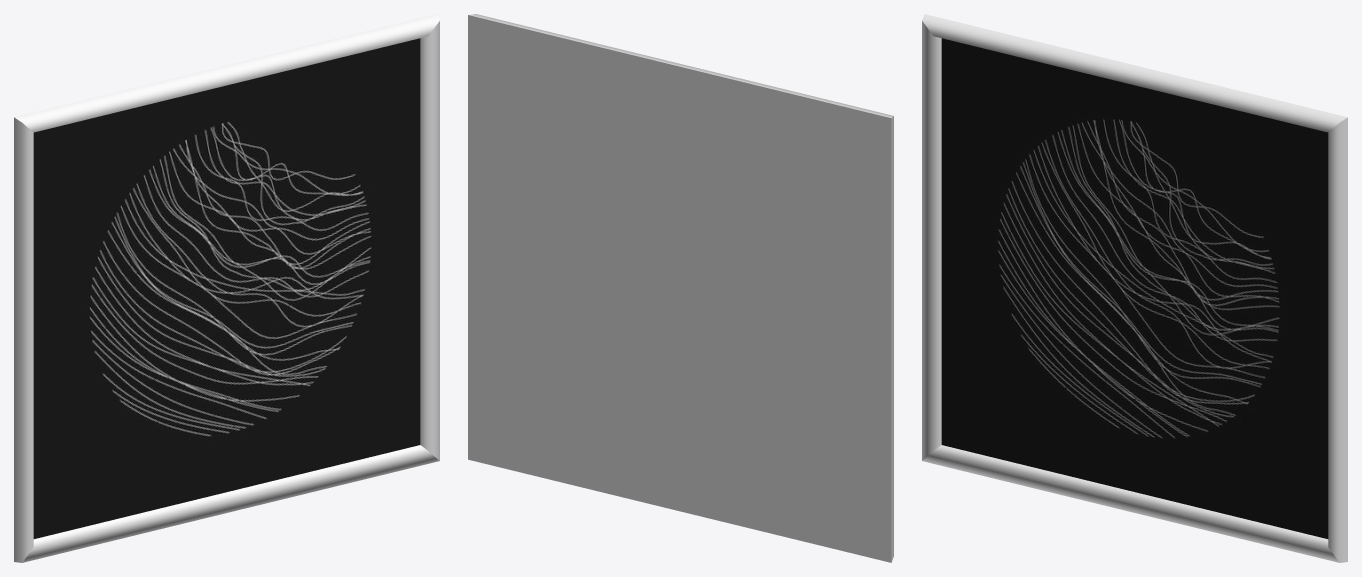
Rendered from picture_004.fbx.
3 renders of one model, left to right at view 1: azimuth 30°, elevation 25°; view 2: azimuth 150°, elevation 25°; view 3: azimuth 330°, elevation 25°, orthographic.
Parts seen in each view (by area): view 1: picture_004; view 2: picture_004; view 3: picture_004.
Part boxes in pixels (x1,y1,x2,y2): picture_004: [14, 14, 439, 562]; picture_004: [468, 14, 893, 562]; picture_004: [922, 14, 1347, 562].
Bounding box in the file's own units: 72.54 × 1.55 × 72.8.
